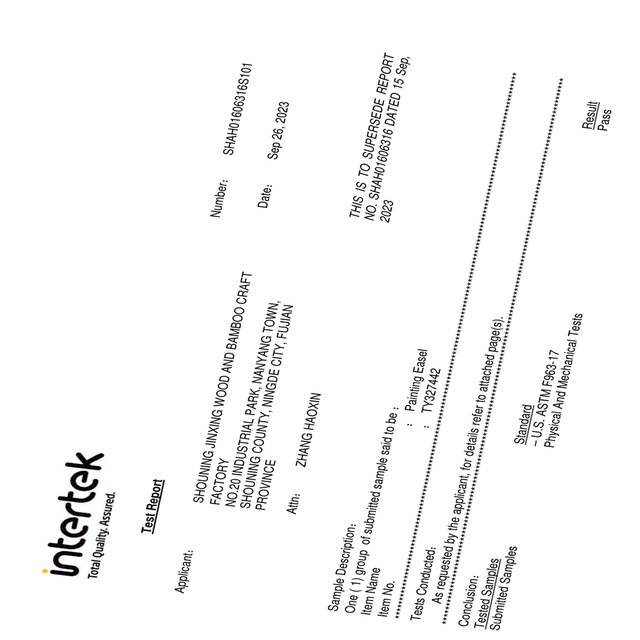intertek: (42, 449, 108, 585)
